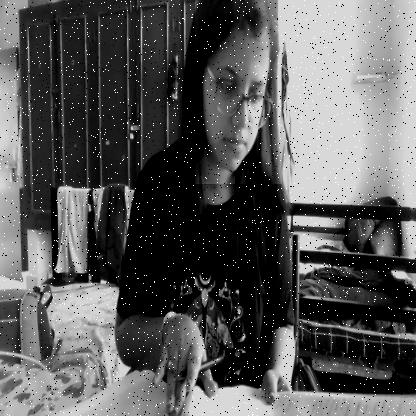Distracted: (195, 0, 282, 184)
